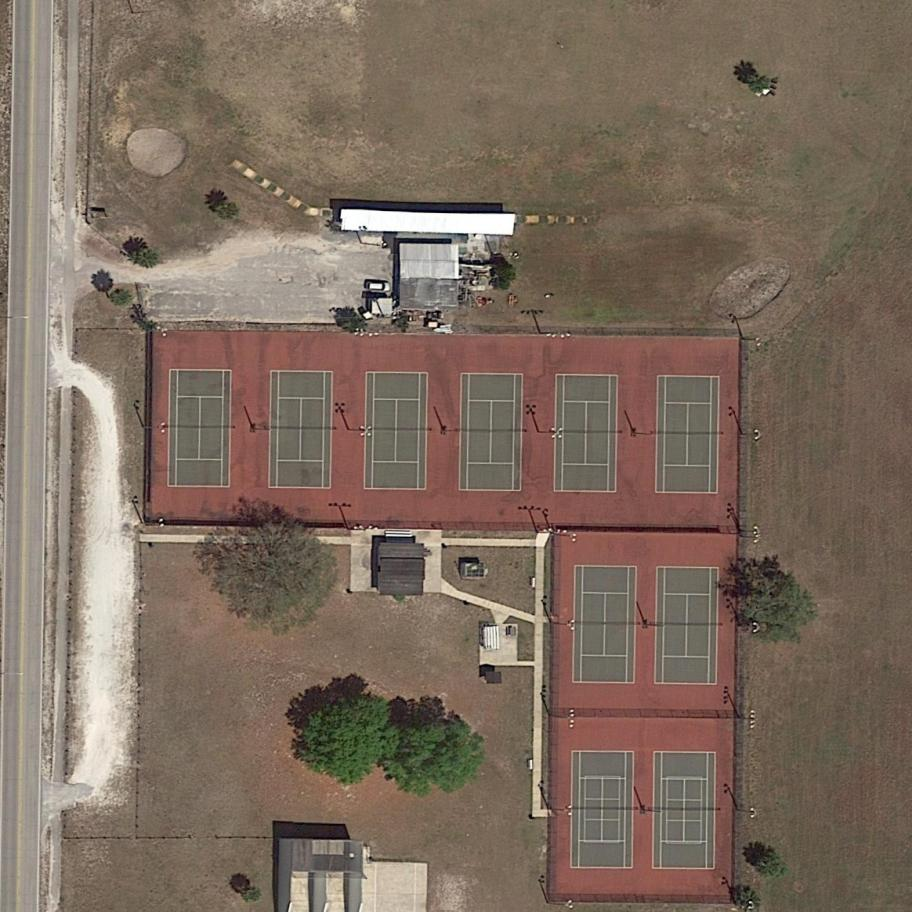small-vehicle: (366, 280, 390, 293)
